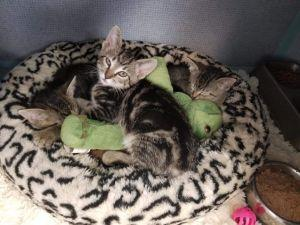bengal: (92, 23, 163, 92)
